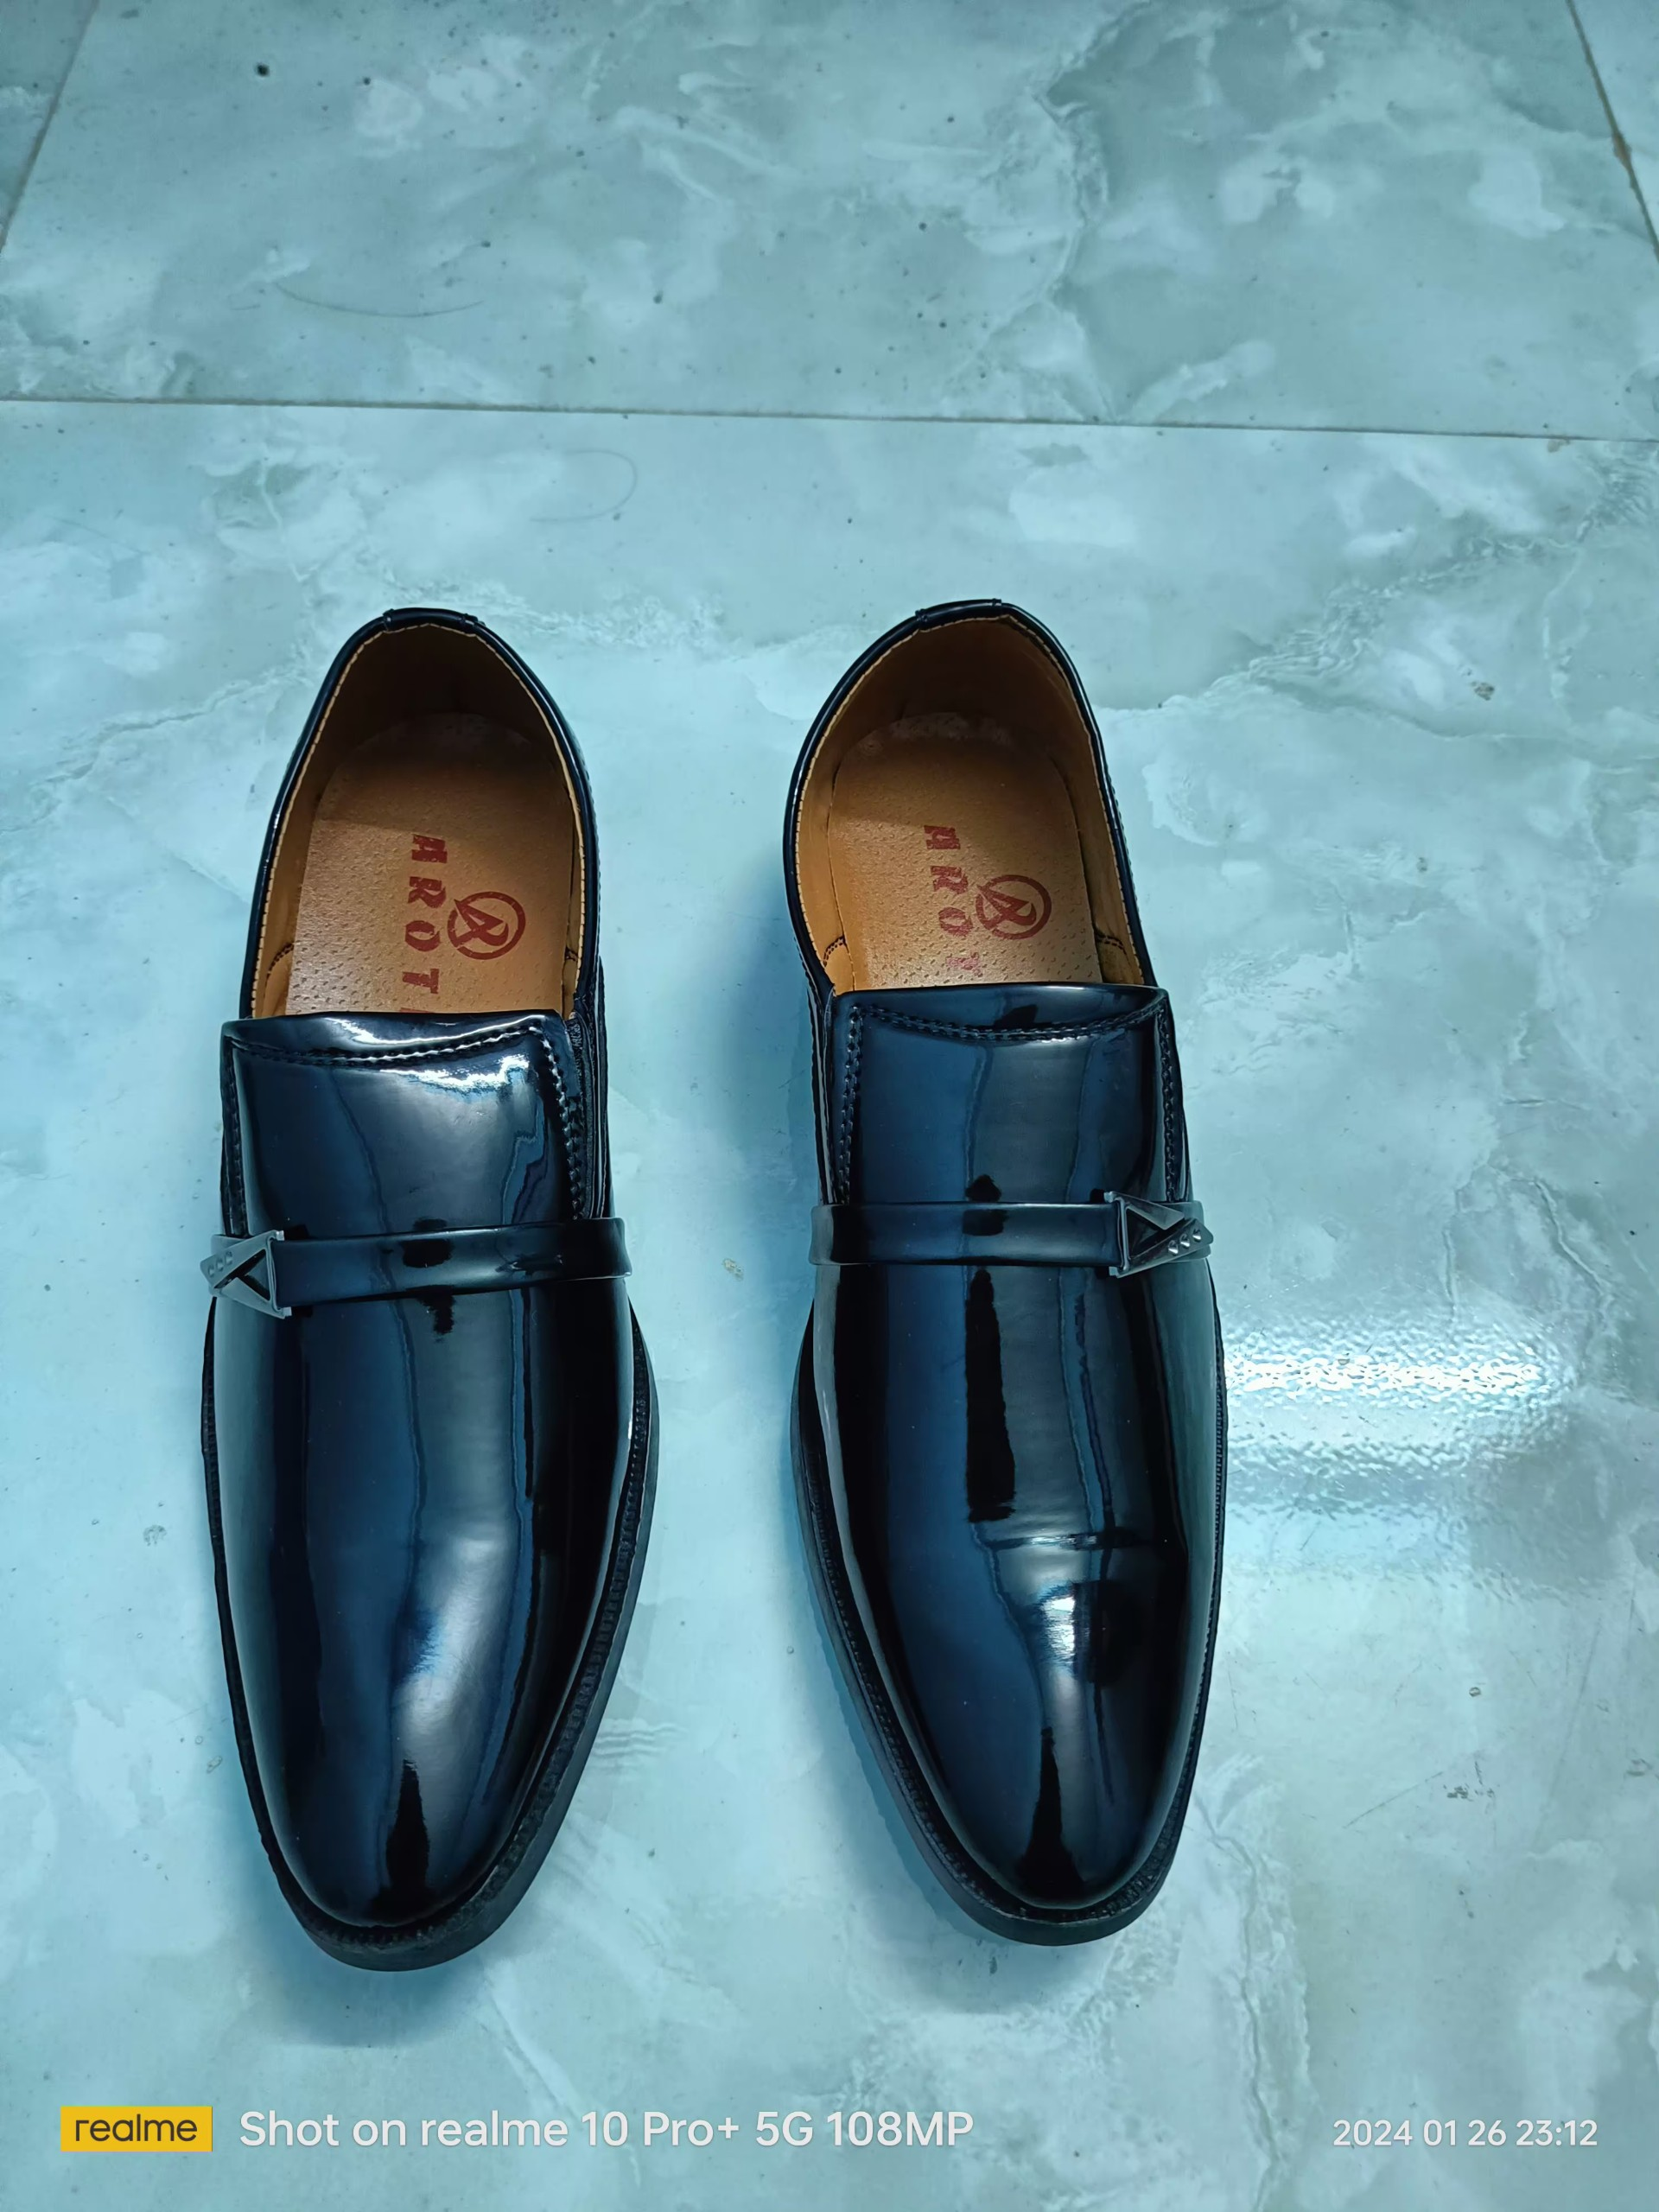loafers: (199, 601, 662, 1980), (772, 594, 1243, 1946)
